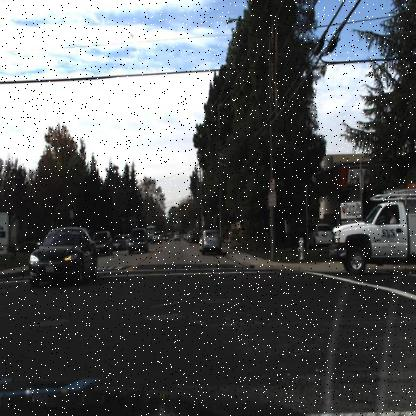car: (324, 183, 415, 284), (22, 220, 101, 298), (27, 224, 99, 290), (196, 224, 224, 255), (124, 225, 150, 258), (94, 226, 116, 261), (92, 229, 114, 257), (112, 232, 129, 252), (151, 228, 165, 247), (169, 226, 184, 243)
truck: (328, 184, 414, 272)
